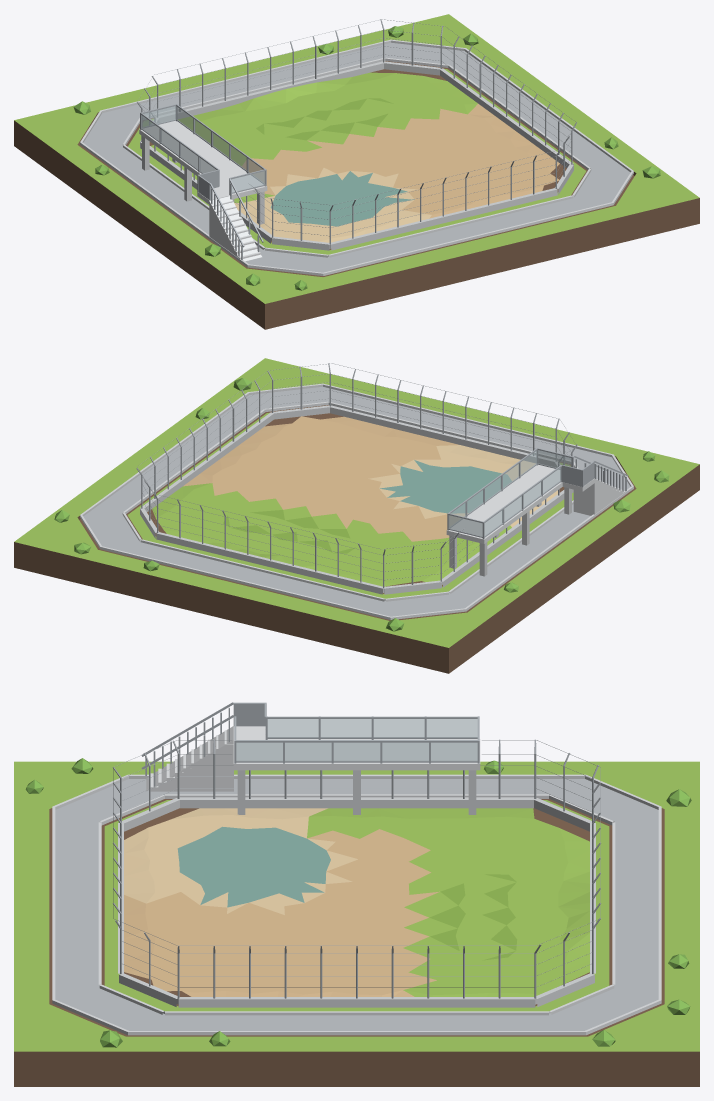
The model's file is enclosure_clean_30x30.glb.
3 views of the same model, one above another, from view 1: azimuth 30°, elevation 25°; view 2: azimuth 150°, elevation 25°; view 3: azimuth 270°, elevation 25° (orthographic). The views are drawn at different scales.
Parts seen in each view (by area): view 1: Terrain_Mesh, Lawn_Outer, Diorama_Base_Sides, Road, Fence_Foundation, Curb_Outer, Curb_Inner, Fence_Posts, Deck_Slab, Fence_Rails, Deck_Rail_Glass, Verge_Inner (+5 smaller); view 2: Terrain_Mesh, Lawn_Outer, Diorama_Base_Sides, Road, Fence_Foundation, Curb_Outer, Curb_Inner, Fence_Posts, Deck_Slab, Fence_Rails, Deck_Rail_Glass, Verge_Inner (+4 smaller); view 3: Terrain_Mesh, Lawn_Outer, Road, Diorama_Base_Sides, Fence_Foundation, Deck_Rail_Glass, Verge_Inner, Curb_Outer, Deck_Slab, Curb_Inner, Fence_Posts, Fence_Rails (+5 smaller).
Boxes of the visible parts, left/top/right/bottom form: Terrain_Mesh: left=151, top=72, right=559, bottom=242; Lawn_Outer: left=14, top=14, right=699, bottom=303; Diorama_Base_Sides: left=14, top=61, right=699, bottom=329; Road: left=83, top=42, right=630, bottom=272; Fence_Foundation: left=140, top=61, right=573, bottom=250; Curb_Outer: left=80, top=39, right=633, bottom=275; Curb_Inner: left=122, top=57, right=591, bottom=257; Fence_Posts: left=137, top=19, right=576, bottom=243; Deck_Slab: left=139, top=120, right=267, bottom=199; Fence_Rails: left=137, top=19, right=576, bottom=236; Deck_Rail_Glass: left=141, top=106, right=264, bottom=192; Verge_Inner: left=128, top=68, right=586, bottom=254; Terrain_Mesh: left=152, top=416, right=557, bottom=586; Lawn_Outer: left=14, top=358, right=699, bottom=647; Diorama_Base_Sides: left=14, top=405, right=699, bottom=673; Road: left=83, top=386, right=630, bottom=616; Fence_Foundation: left=140, top=405, right=573, bottom=594; Curb_Outer: left=80, top=383, right=633, bottom=619; Curb_Inner: left=122, top=401, right=578, bottom=601; Fence_Posts: left=136, top=363, right=577, bottom=587; Deck_Slab: left=446, top=464, right=562, bottom=543; Fence_Rails: left=137, top=363, right=576, bottom=580; Deck_Rail_Glass: left=449, top=450, right=571, bottom=536; Verge_Inner: left=127, top=412, right=573, bottom=598; Terrain_Mesh: left=124, top=808, right=589, bottom=996; Lawn_Outer: left=14, top=761, right=699, bottom=1051; Road: left=55, top=779, right=658, bottom=1030; Diorama_Base_Sides: left=14, top=799, right=699, bottom=1086; Fence_Foundation: left=118, top=797, right=595, bottom=1007; Deck_Rail_Glass: left=236, top=719, right=477, bottom=760; Verge_Inner: left=104, top=800, right=609, bottom=1011; Curb_Outer: left=52, top=774, right=661, bottom=1035; Deck_Slab: left=233, top=739, right=480, bottom=770; Curb_Inner: left=98, top=794, right=615, bottom=1015; Fence_Posts: left=112, top=739, right=601, bottom=998; Fence_Rails: left=113, top=740, right=600, bottom=987.
Size of the model in its own units: 30 by 5.38 by 30.
